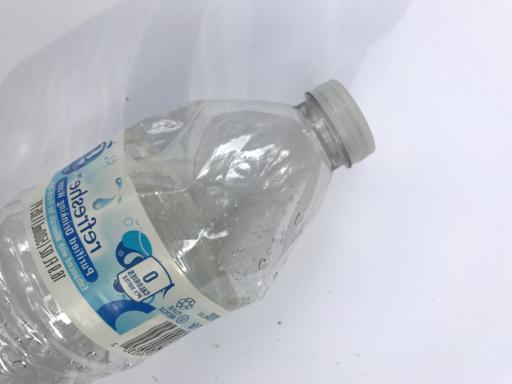bottle: (0, 73, 378, 384)
